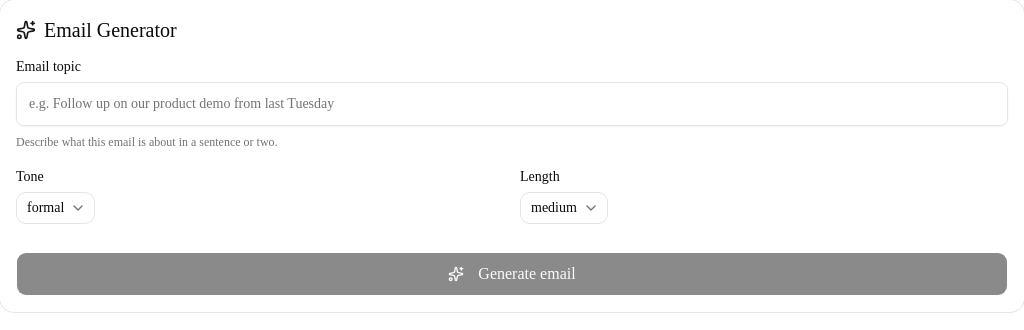
Test: EmailGenerator component › Generate button becomes enabled after typing a topic
This screenshot has width=1024, height=330.
Type "project kickoff" into the field labelled "Email topic" at (512, 104), box [16,82,1008,126]
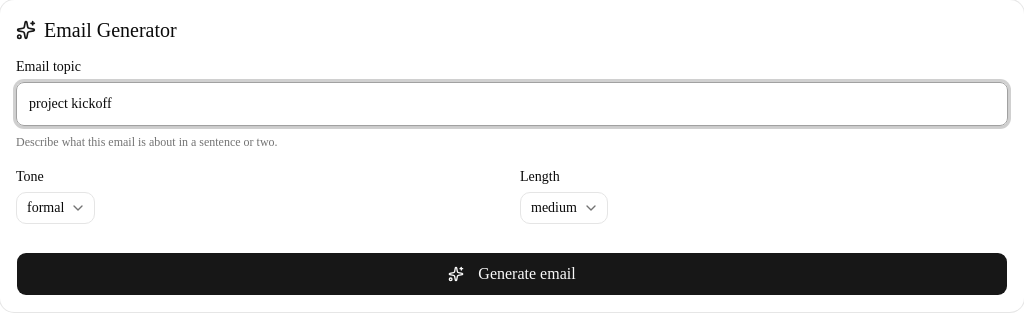
Expected: the button "Generate email" is enabled, [16,252,1008,296]
